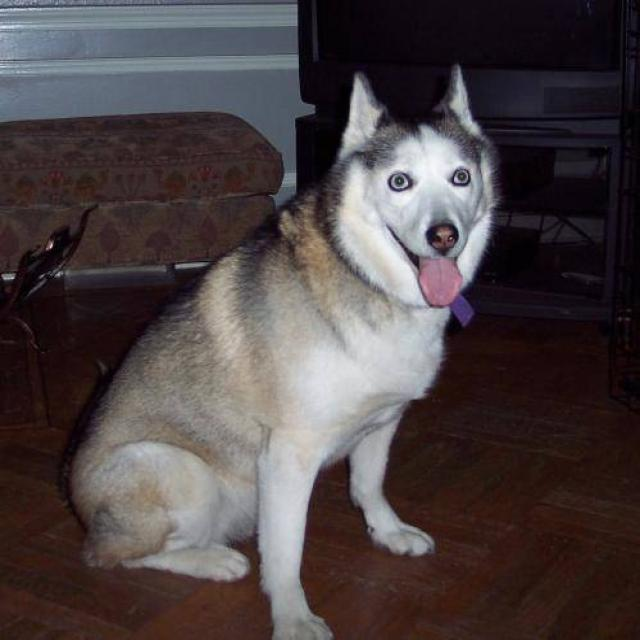dog: (56, 61, 502, 639)
